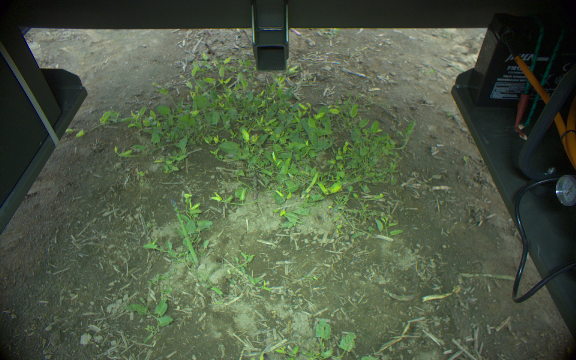aspa: (169, 198, 199, 267), (250, 173, 260, 204)
